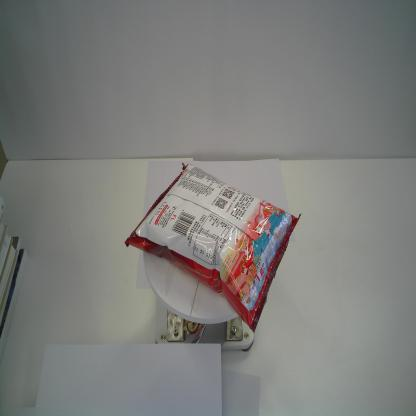Puffed Food: (124, 162, 302, 334)
